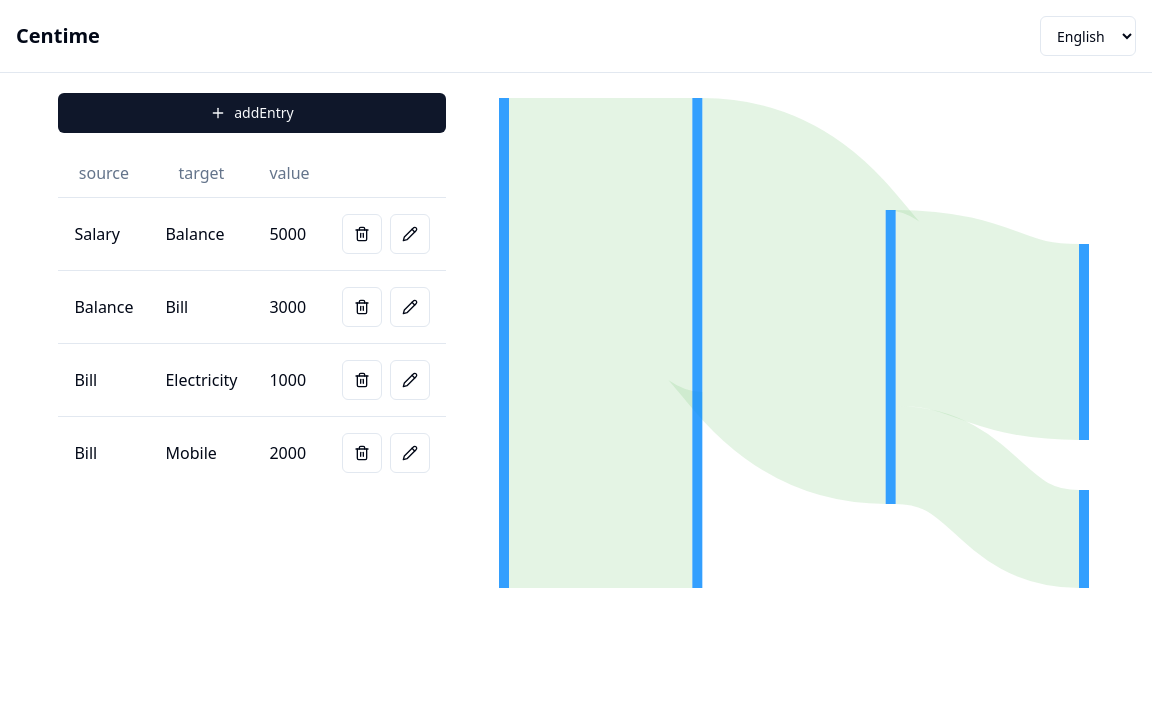
App › should show error on empty form submission
Click the button "addEntry" at (252,113), box [58,93,446,133]
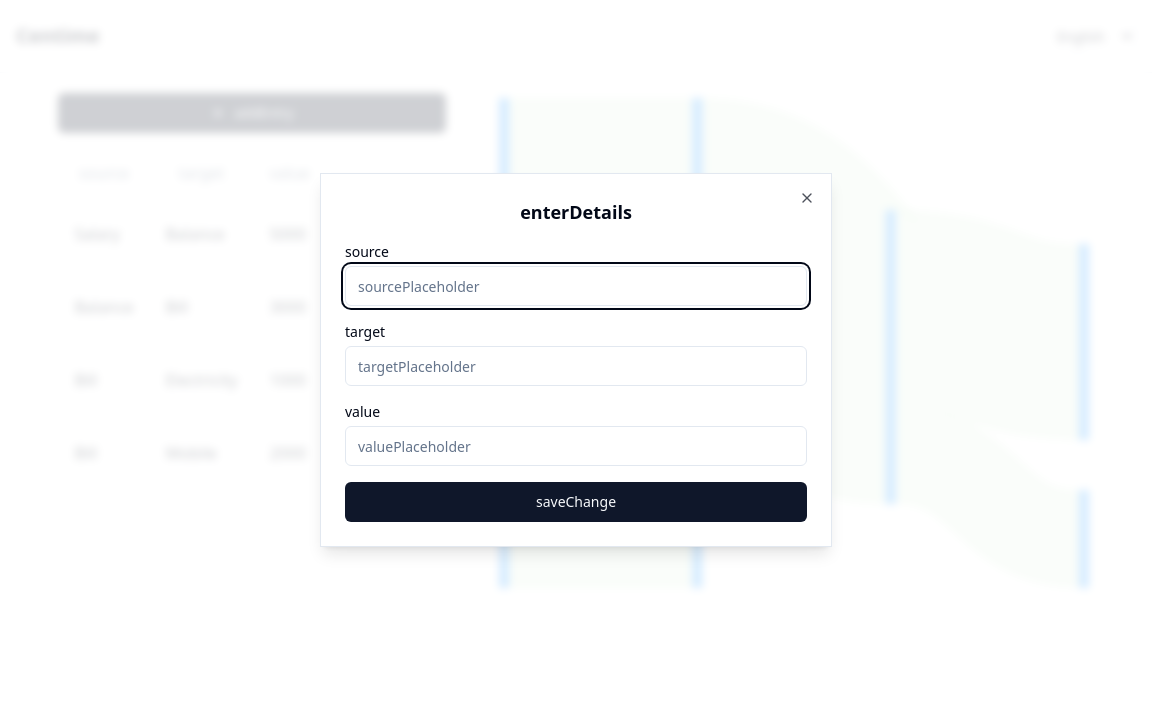
Now the heading "enterDetails" is shown, box [520,200,632,224]
Click the button "saveChange" at (576,502), box [345,482,807,522]
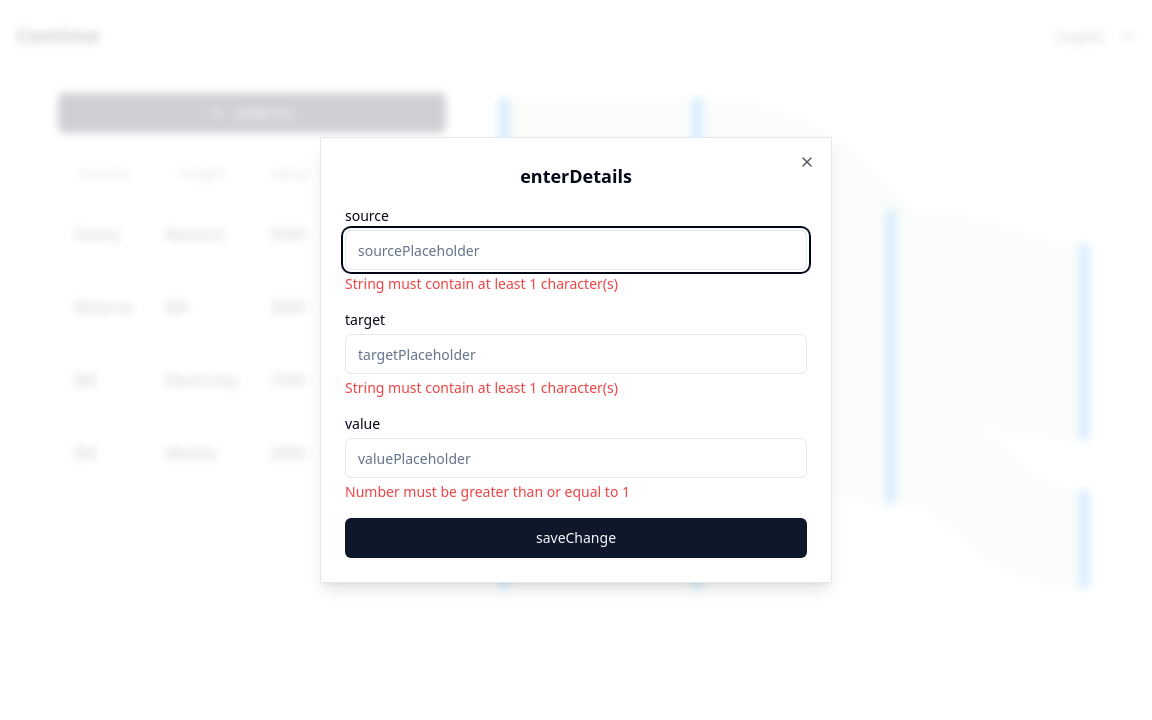
Now the text "String must contain at least 1 character(s)" is shown 2 times, box [345,274,618,293]; [345,378,618,397]
Now the text "Number must be greater than or equal to 1" is shown, box [345,482,630,501]
